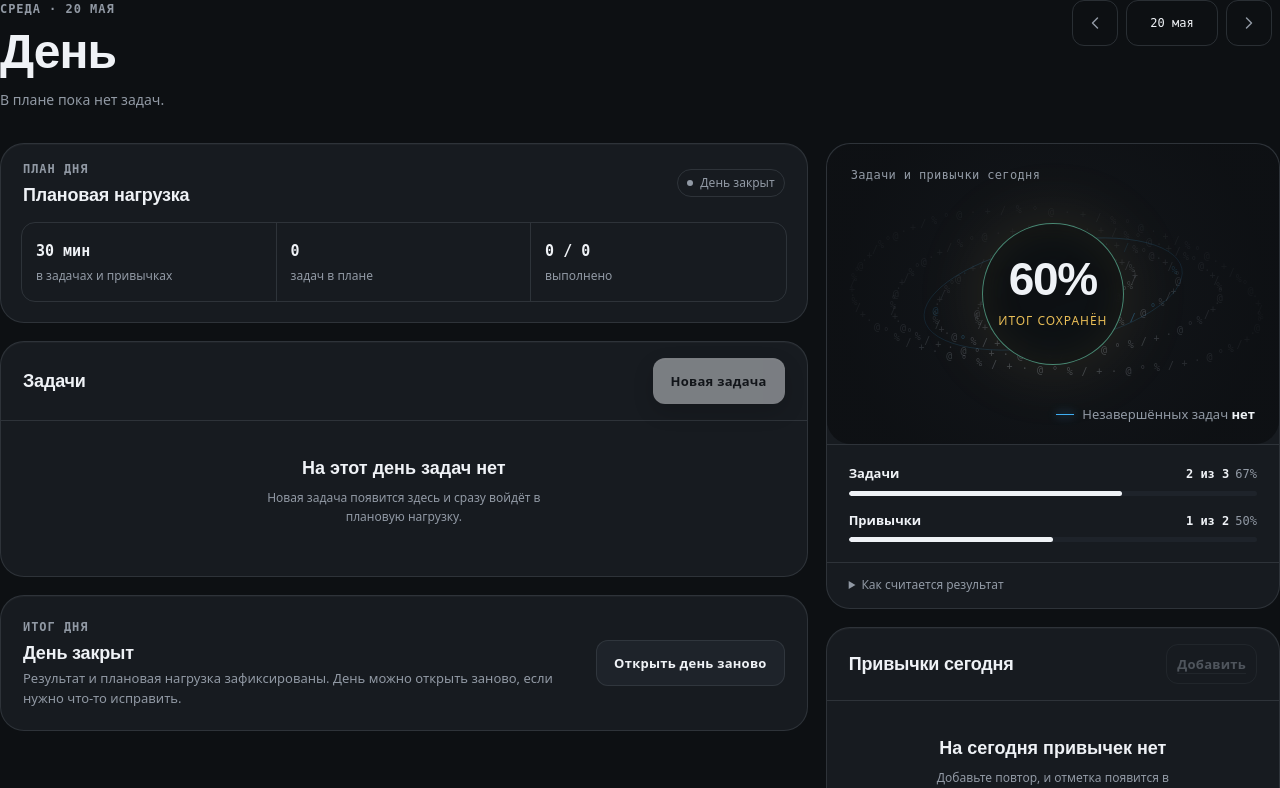
Scenario: 003 US3: reopening a closed day from the Day page › offers reopening on a closed day and states what it will not undo (FR-009, FR-012)
The image size is (1280, 788).
Click the button "Открыть день заново": {"x": 690, "y": 663} [596, 640, 785, 686]
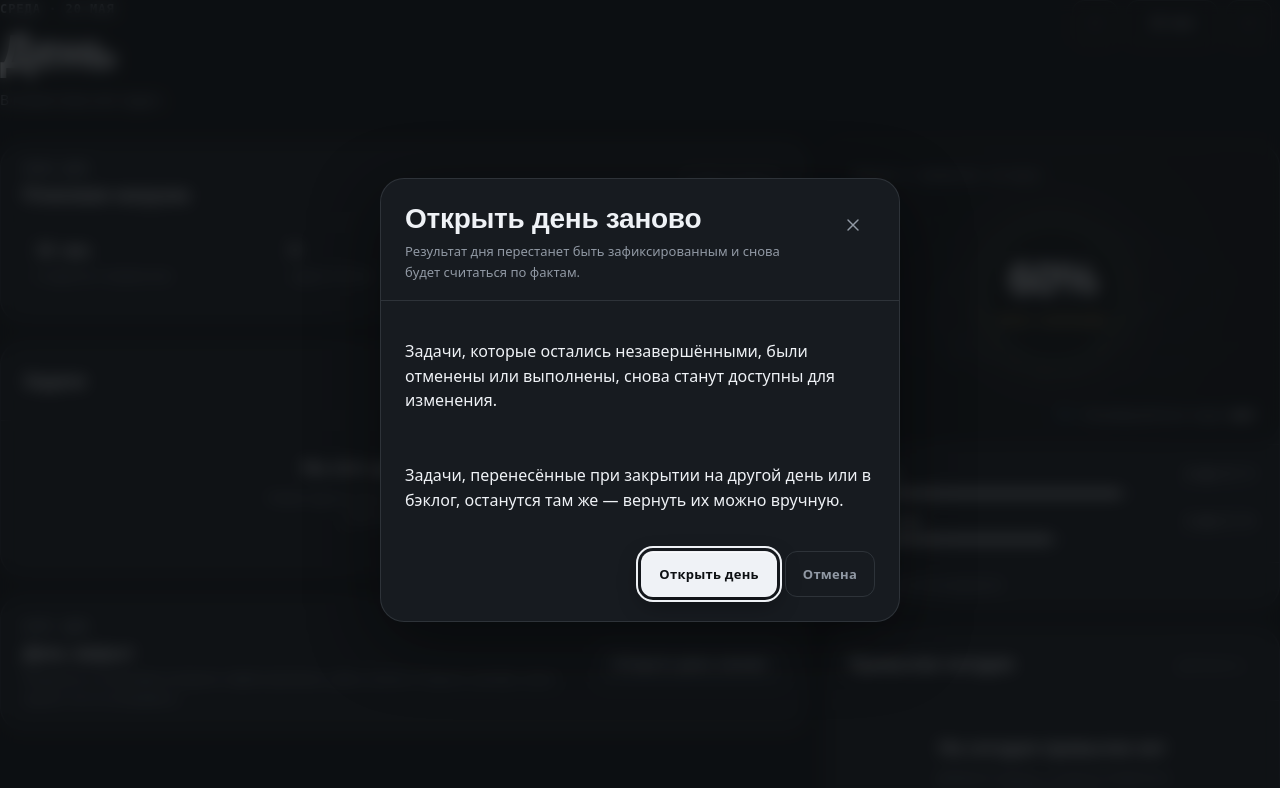
Expected: the dialog "Открыть день заново" is shown, [380, 178, 900, 622]
Expected: the dialog "Открыть день заново" shows "останутся там же", [405, 464, 871, 511]
